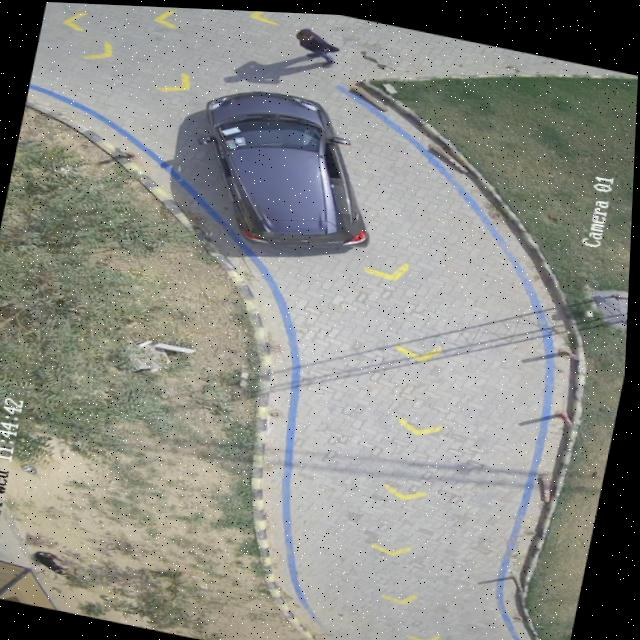car: (203, 88, 370, 243)
